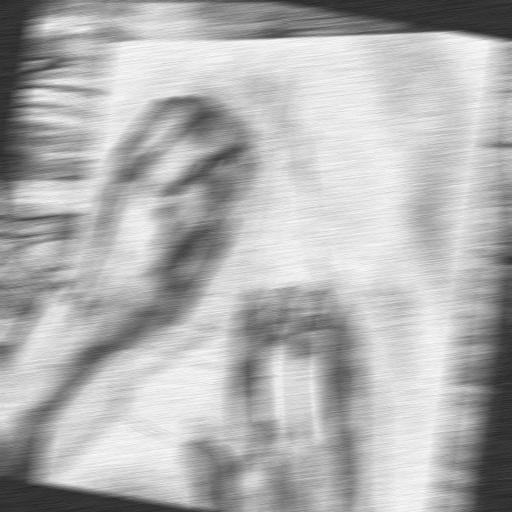boat: (96, 5, 426, 484)
top_right: (103, 37, 119, 50)
